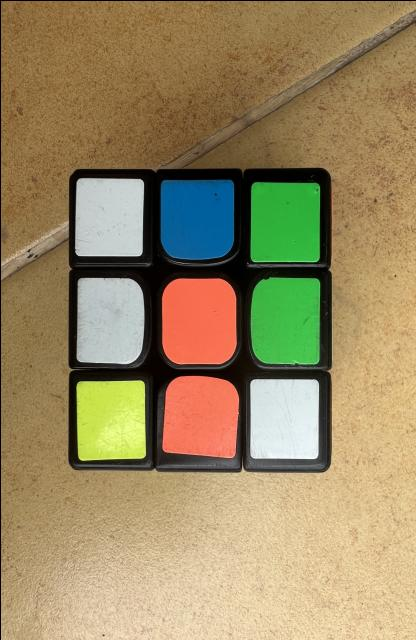Blue: (159, 179, 233, 259)
Green: (250, 276, 320, 364), (249, 181, 320, 261)
Orange: (160, 278, 236, 364), (161, 375, 238, 458)
White: (76, 276, 144, 364), (249, 378, 318, 459), (74, 178, 143, 255)
Yellow: (76, 379, 145, 460)
